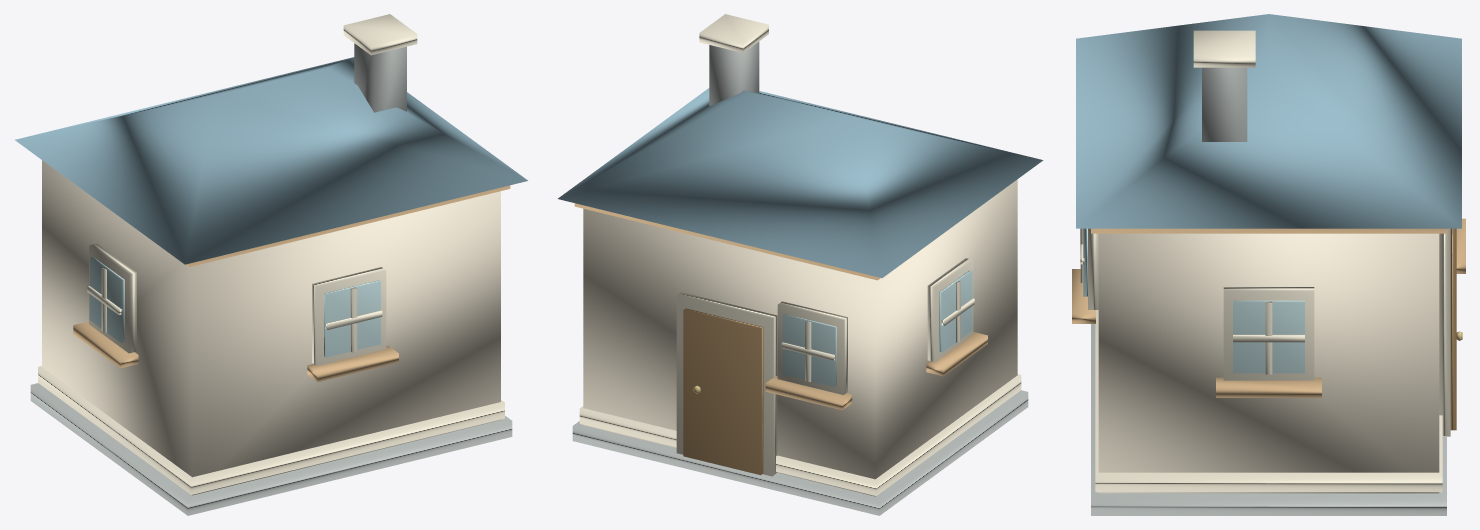
The model's file is admin_low.glb.
3 views of the same model, side by side, from view 1: azimuth 30°, elevation 25°; view 2: azimuth 150°, elevation 25°; view 3: azimuth 270°, elevation 25° (orthographic). The views are drawn at different scales.
Size of the model in its own units: 3.62 by 3.78 by 3.12.
